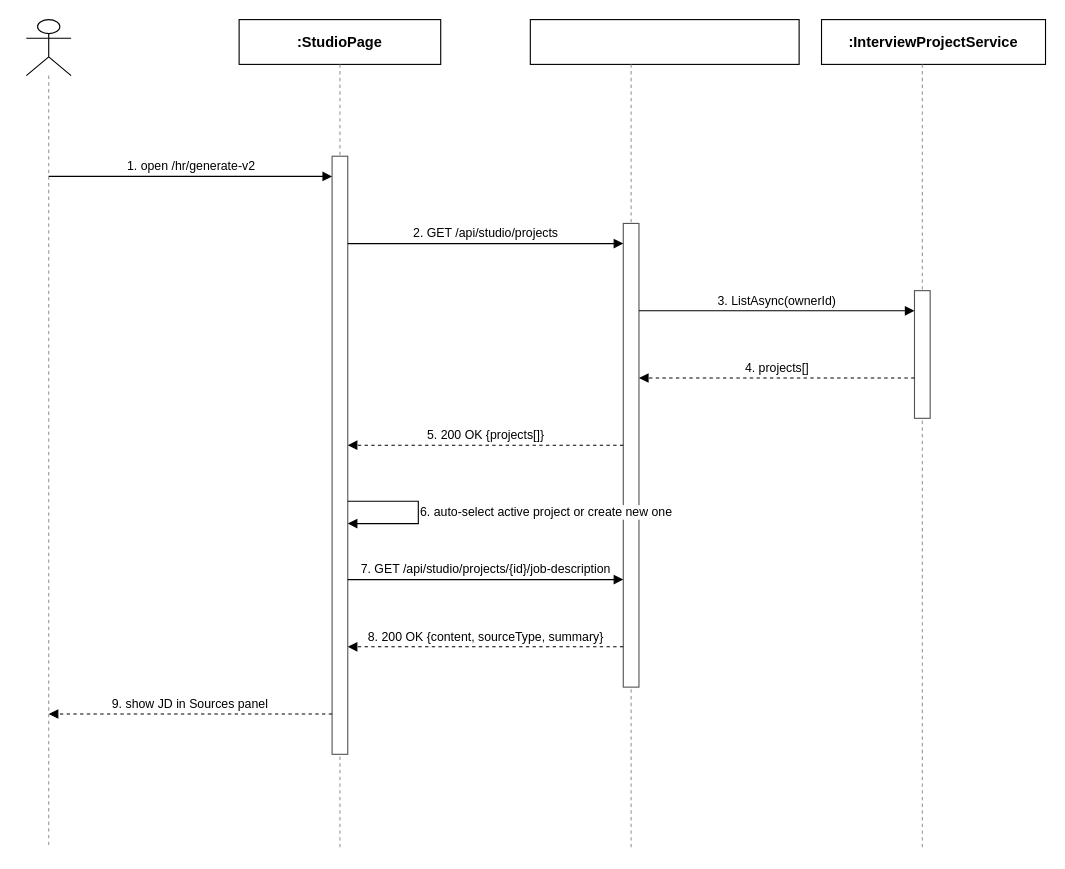
Some shapes in this 1065 by 869 pixel diagram are drawn without their labels. Each missing label, with the box of its shape:
:StudioInterviewProjectsController: (529, 18, 799, 64)
HR Manager: (25, 18, 71, 76)
